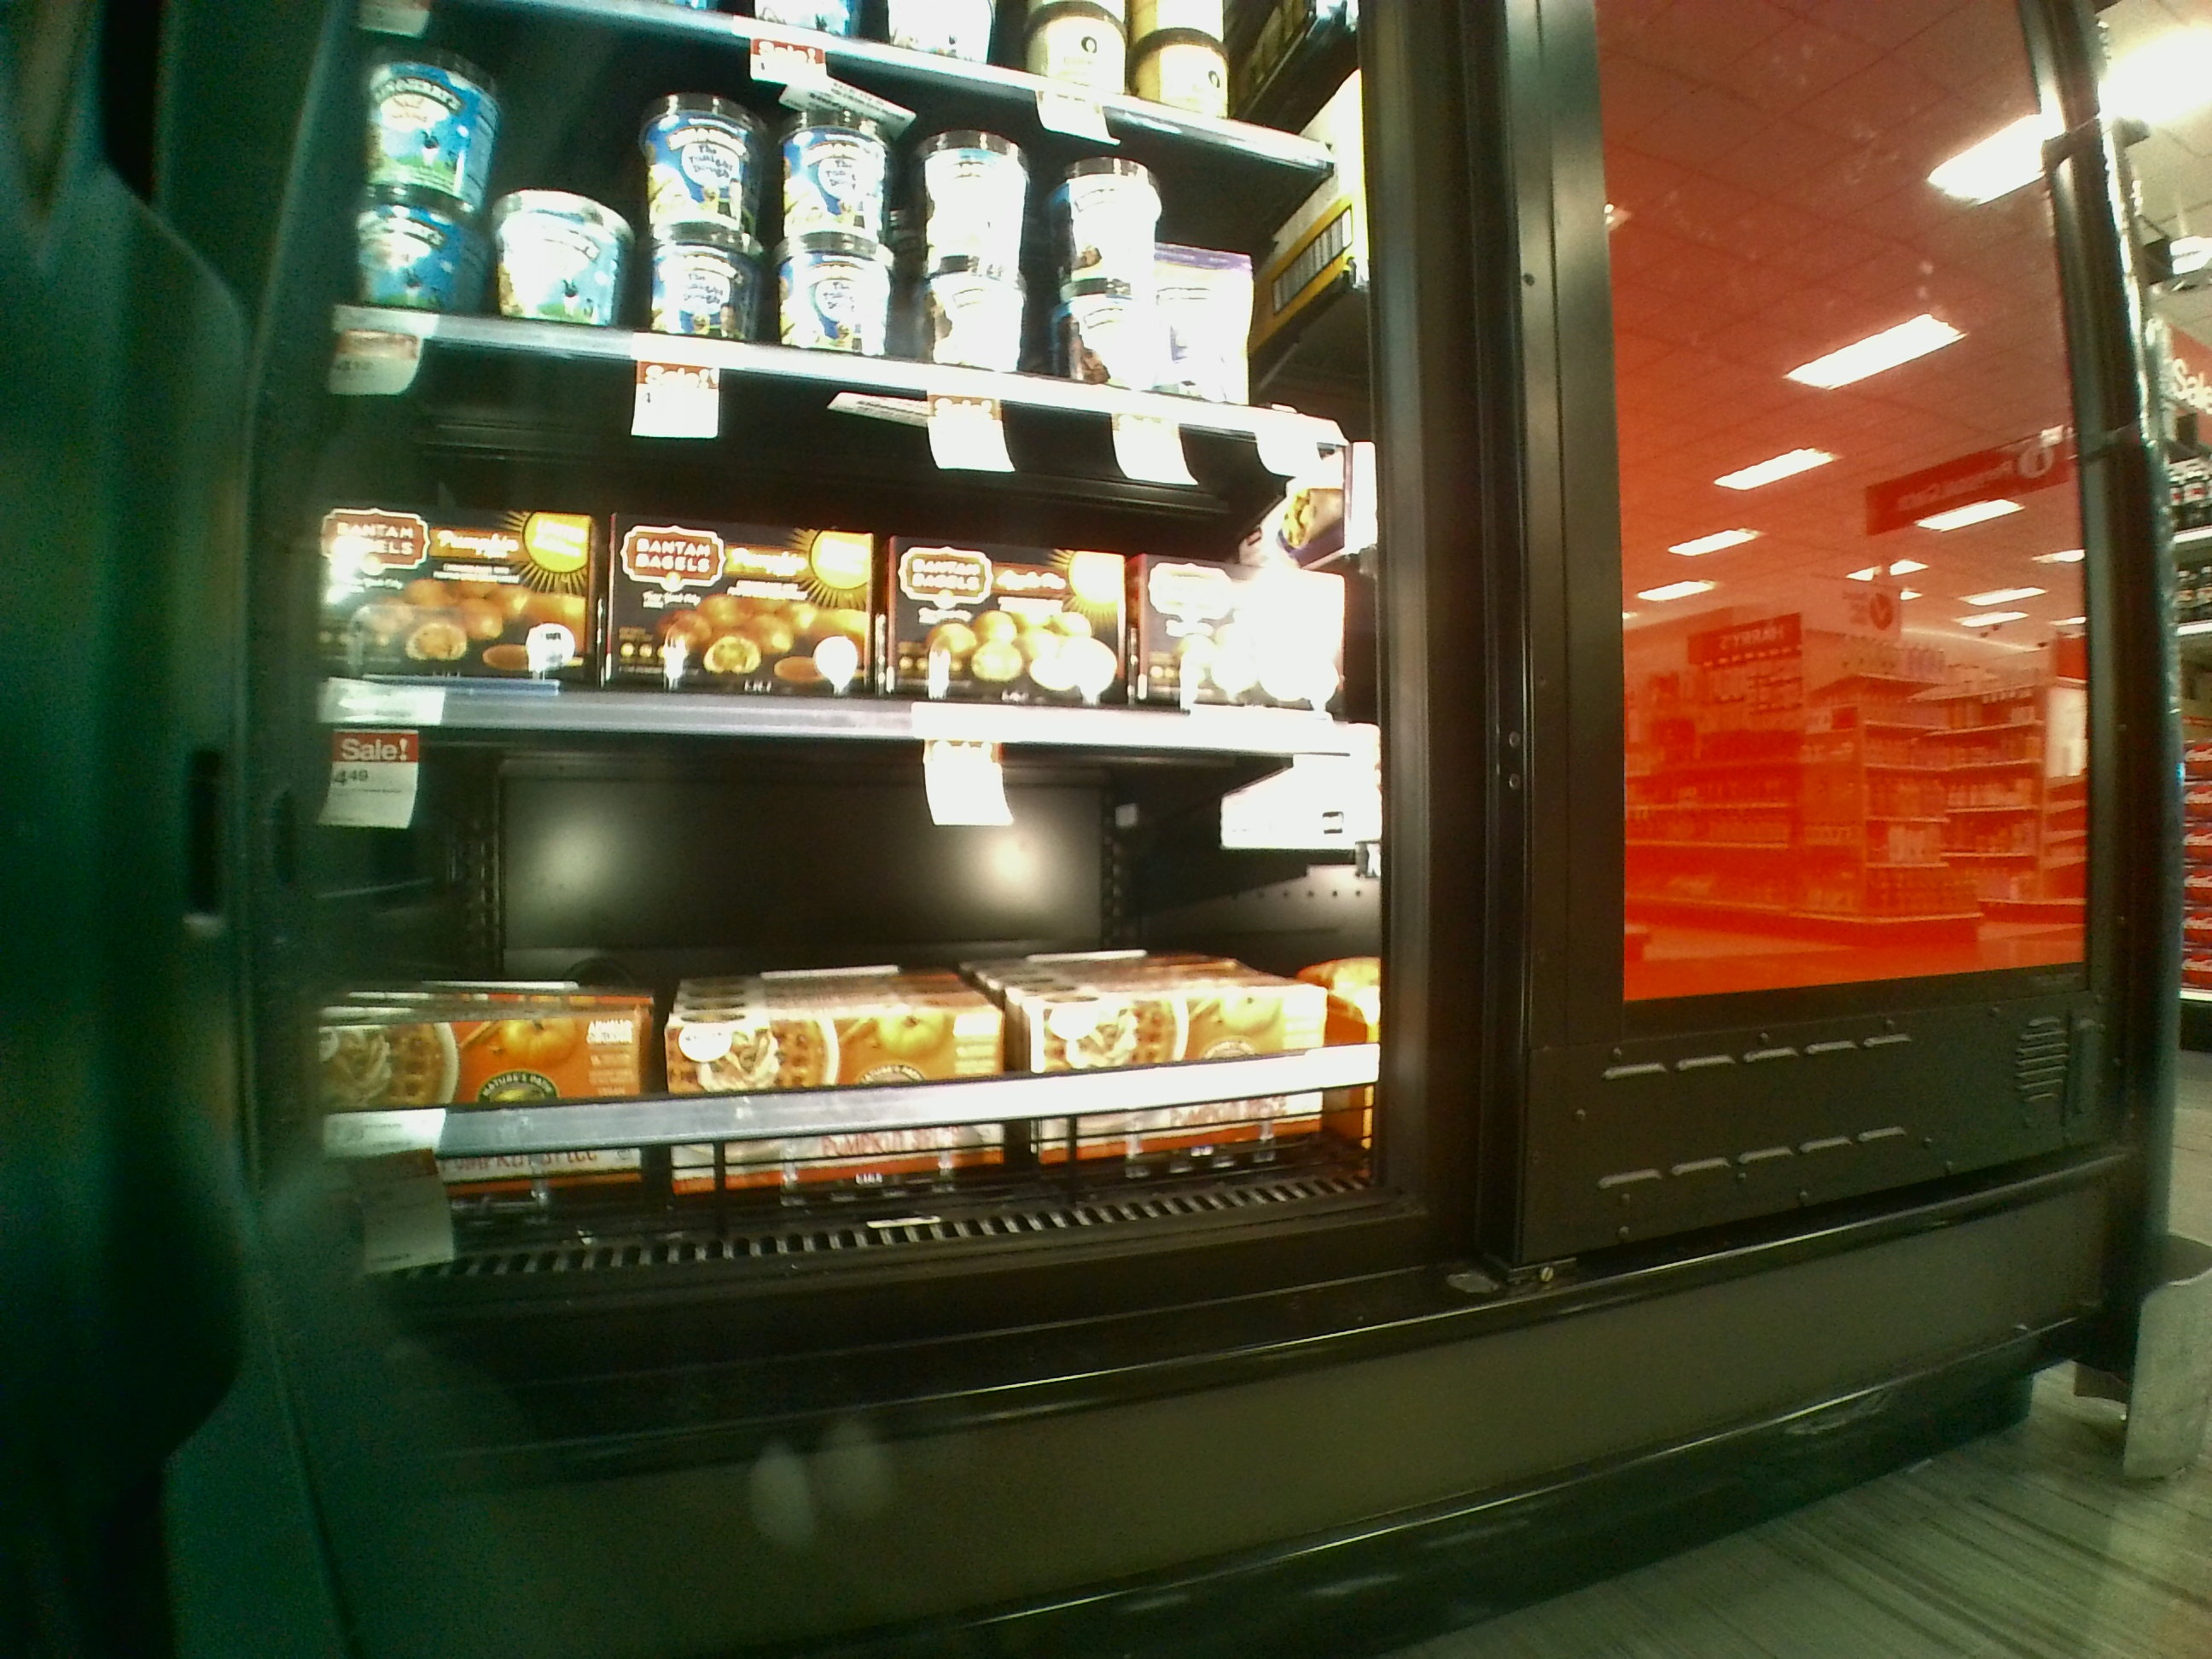shelf: (261, 718, 1385, 1262), (273, 342, 1390, 770)
